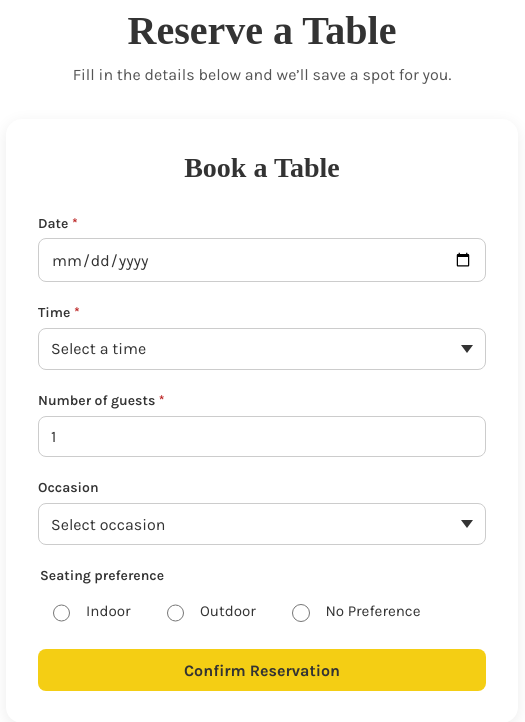
Scenario: BookingPage › shows validation errors on submit with empty fields
Step 1. Clear the number field labelled "Number of guests *" → (262,436), box x1=38 y1=416 x2=486 y2=457
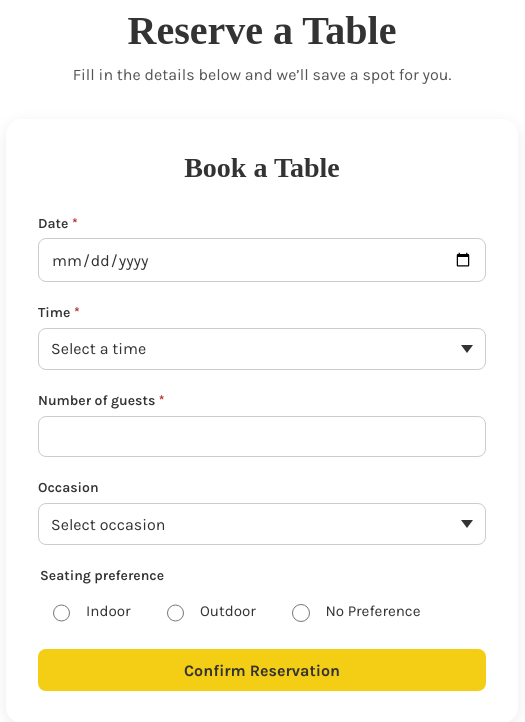
Step 2. Click the button "Confirm Reservation" → (262,670), box x1=38 y1=650 x2=486 y2=691
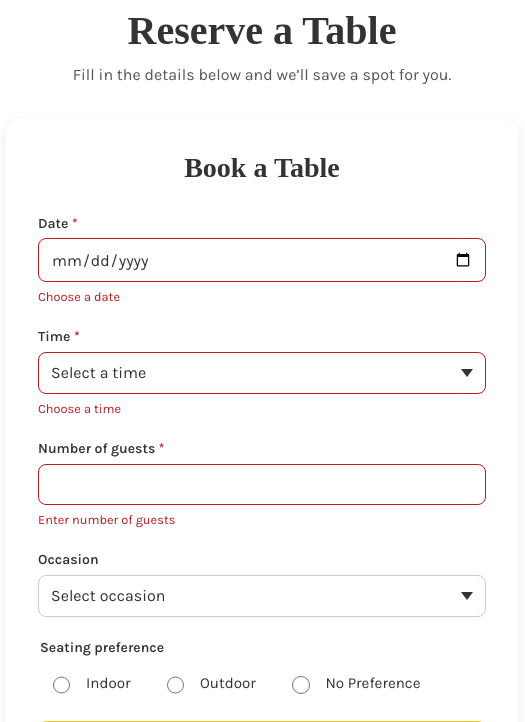
Now the text "Choose a date" is shown, box x1=38 y1=289 x2=120 y2=304
Now the text "Choose a time" is shown, box x1=38 y1=400 x2=121 y2=416
Now the text "Enter number of guests" is shown, box x1=38 y1=512 x2=176 y2=527
